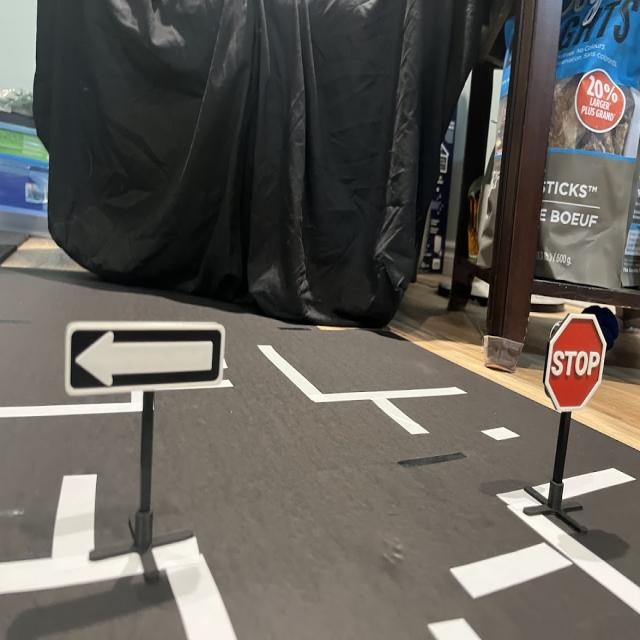sign_oneway_left: (63, 317, 228, 397)
sign_stop: (546, 317, 607, 411)
